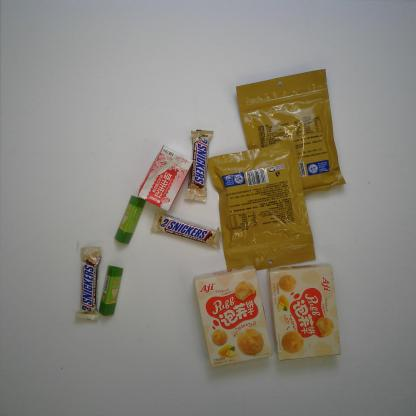Chocolate: (150, 210, 224, 251), (183, 128, 214, 206), (74, 244, 103, 324)
Dessert: (193, 264, 276, 372), (266, 262, 344, 363)
Dried Fruit: (234, 65, 346, 208), (205, 138, 316, 278)
Milk: (135, 143, 196, 214)
Stationery: (112, 194, 146, 246), (97, 263, 125, 318)
